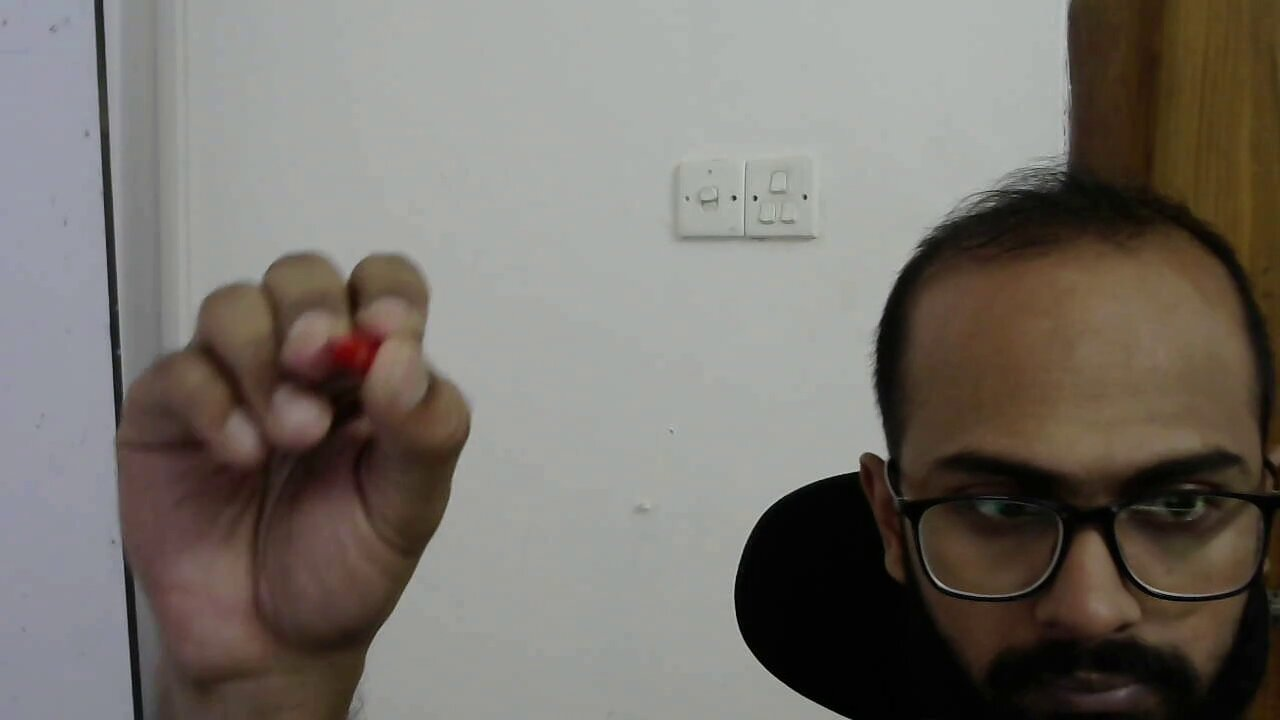pointer: (118, 252, 470, 606)
